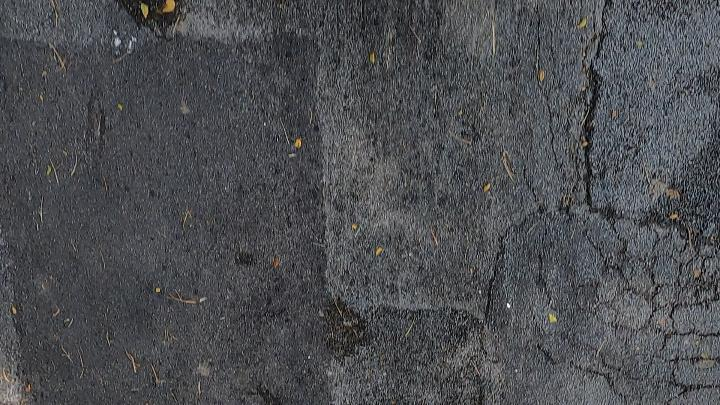Crack: (637, 263, 720, 405), (484, 204, 550, 323), (484, 206, 544, 320), (580, 24, 614, 219), (579, 28, 613, 218), (644, 266, 719, 345), (664, 329, 719, 391), (529, 252, 545, 290)
Pothole: (118, 0, 181, 34), (121, 0, 178, 29)
